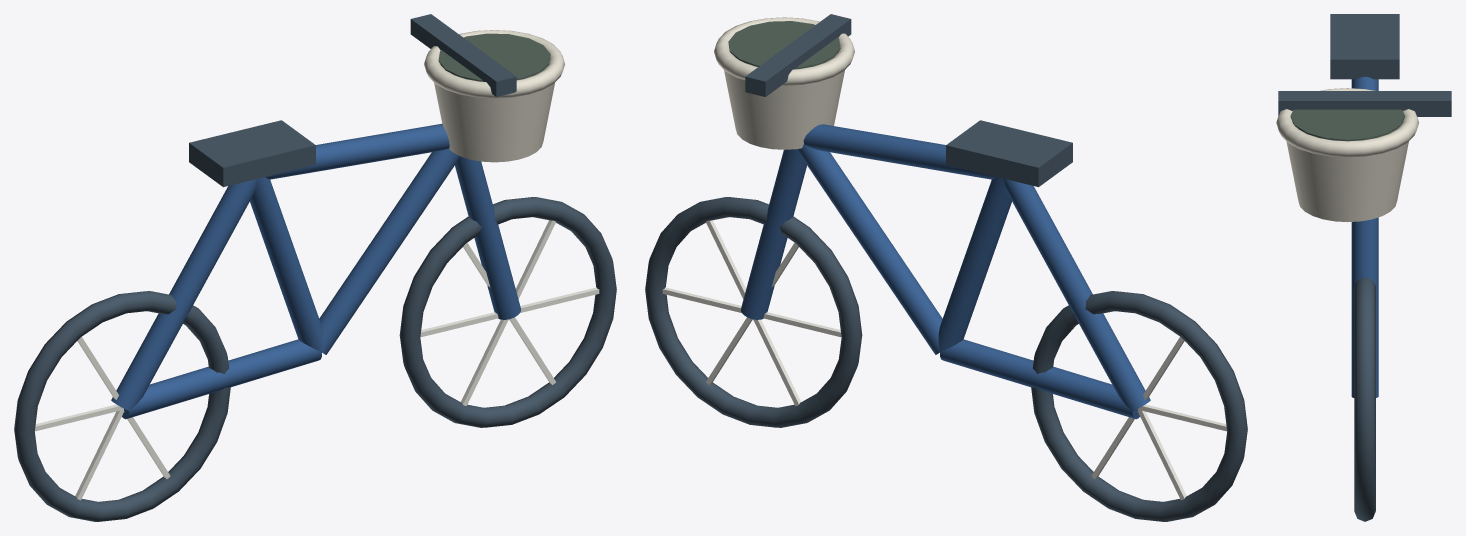
File: v18_street_bicycle.glb
3 renders of one model, left to right at view 1: azimuth 30°, elevation 25°; view 2: azimuth 150°, elevation 25°; view 3: azimuth 270°, elevation 25°, orthographic.
Parts seen in each view (by area): view 1: _MeshInstance3D_4302, _MeshInstance3D_4298, _MeshInstance3D_4316, _MeshInstance3D_4308, _MeshInstance3D_4310, _MeshInstance3D_4312, _MeshInstance3D_4306, _MeshInstance3D_4307, _MeshInstance3D_4311, _MeshInstance3D_4309, _MeshInstance3D_4313, _MeshInstance3D_4317 (+6 smaller); view 2: _MeshInstance3D_4302, _MeshInstance3D_4298, _MeshInstance3D_4308, _MeshInstance3D_4310, _MeshInstance3D_4316, _MeshInstance3D_4312, _MeshInstance3D_4306, _MeshInstance3D_4307, _MeshInstance3D_4311, _MeshInstance3D_4309, _MeshInstance3D_4313, _MeshInstance3D_4318 (+6 smaller); view 3: _MeshInstance3D_4316, _MeshInstance3D_4302, _MeshInstance3D_4312, _MeshInstance3D_4313, _MeshInstance3D_4318, _MeshInstance3D_4317, _MeshInstance3D_4311, _MeshInstance3D_4309.
Boxes of the visible parts, x1,y1,x2,y2 form: _MeshInstance3D_4302: [399, 197, 616, 427]; _MeshInstance3D_4298: [14, 291, 230, 521]; _MeshInstance3D_4316: [434, 83, 554, 162]; _MeshInstance3D_4308: [111, 179, 258, 411]; _MeshInstance3D_4310: [319, 148, 460, 354]; _MeshInstance3D_4312: [189, 120, 315, 187]; _MeshInstance3D_4306: [122, 339, 321, 419]; _MeshInstance3D_4307: [250, 177, 323, 352]; _MeshInstance3D_4311: [455, 156, 520, 319]; _MeshInstance3D_4309: [265, 123, 449, 179]; _MeshInstance3D_4313: [410, 14, 516, 96]; _MeshInstance3D_4317: [424, 30, 564, 98]; _MeshInstance3D_4302: [645, 197, 862, 427]; _MeshInstance3D_4298: [1031, 291, 1247, 521]; _MeshInstance3D_4308: [1003, 179, 1150, 411]; _MeshInstance3D_4310: [798, 144, 942, 354]; _MeshInstance3D_4316: [724, 70, 844, 149]; _MeshInstance3D_4312: [946, 120, 1072, 187]; _MeshInstance3D_4306: [940, 339, 1139, 419]; _MeshInstance3D_4307: [938, 177, 1011, 352]; _MeshInstance3D_4311: [741, 149, 806, 319]; _MeshInstance3D_4309: [803, 124, 996, 179]; _MeshInstance3D_4313: [745, 14, 851, 96]; _MeshInstance3D_4318: [728, 21, 840, 69]; _MeshInstance3D_4316: [1286, 141, 1408, 222]; _MeshInstance3D_4302: [1354, 277, 1375, 521]; _MeshInstance3D_4312: [1330, 14, 1399, 79]; _MeshInstance3D_4313: [1278, 91, 1451, 116]; _MeshInstance3D_4318: [1290, 109, 1404, 141]; _MeshInstance3D_4317: [1276, 88, 1418, 157]; _MeshInstance3D_4311: [1351, 217, 1378, 397]; _MeshInstance3D_4309: [1351, 76, 1378, 90].
Size of the model in its own units: 1.86 by 1.15 by 0.4658.
